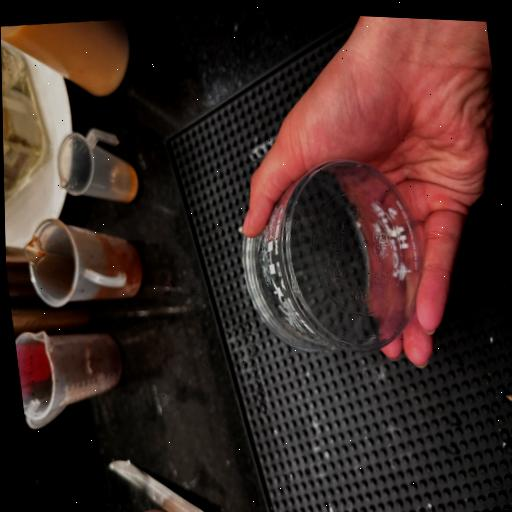ly_nhua: (242, 160, 422, 350)
